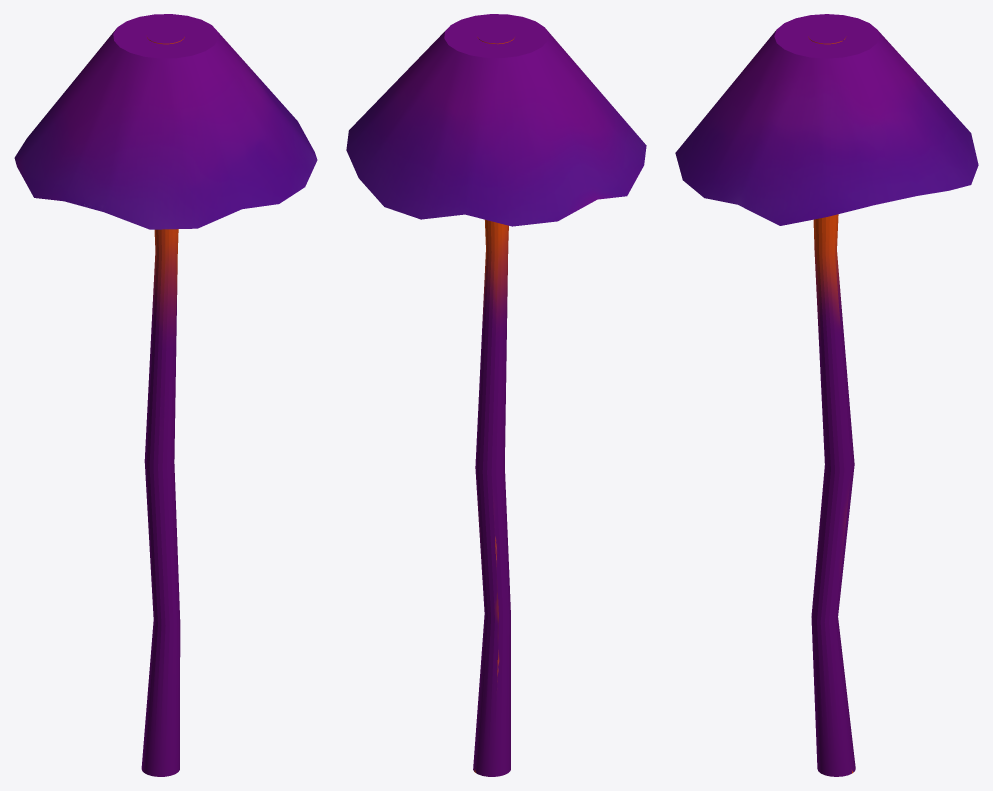
Rendered from LAMP_FLOOR.fbx.
The picture shows the model from 3 angles, left to right: view 1: azimuth 30°, elevation 25°; view 2: azimuth 150°, elevation 25°; view 3: azimuth 270°, elevation 25°; orthographic projection.
Visible parts, largest first — view 1: lamp_floor_finished; view 2: lamp_floor_finished; view 3: lamp_floor_finished.
Part boxes in pixels (left/top/right/bottom): lamp_floor_finished: left=14, top=14, right=317, bottom=776; lamp_floor_finished: left=346, top=14, right=646, bottom=776; lamp_floor_finished: left=675, top=14, right=978, bottom=776.
Bounding box in the file's own units: 158 × 422 × 158.
